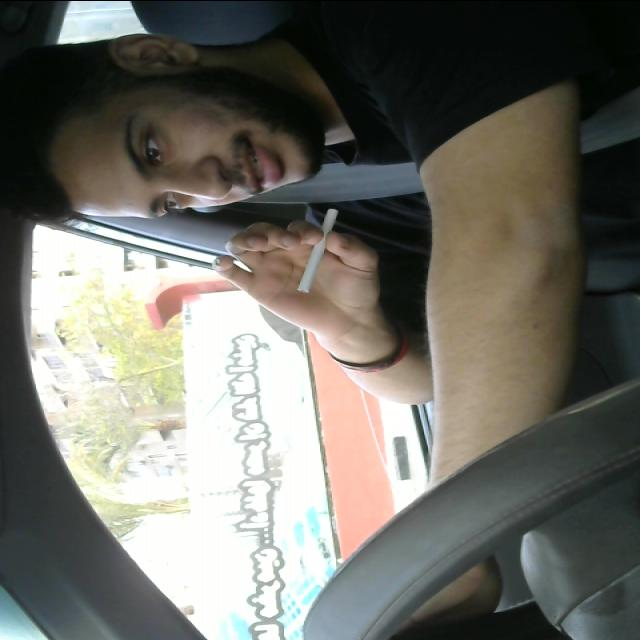smoking: (288, 206, 342, 298)
